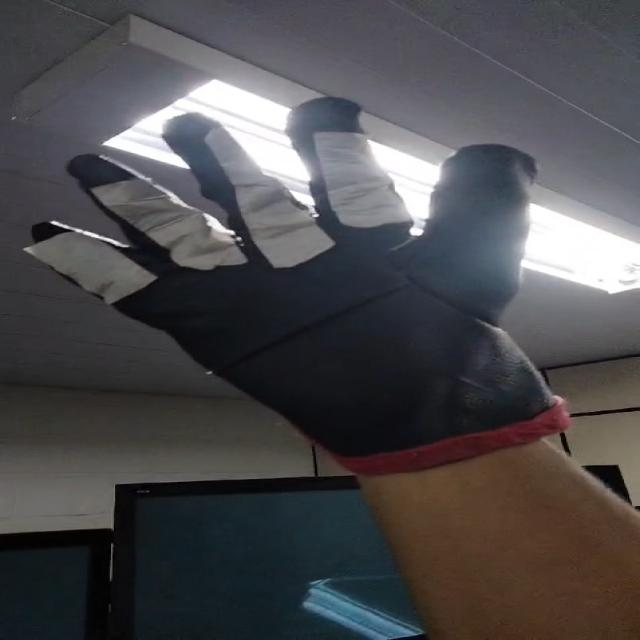Gloves: (40, 92, 566, 463)
